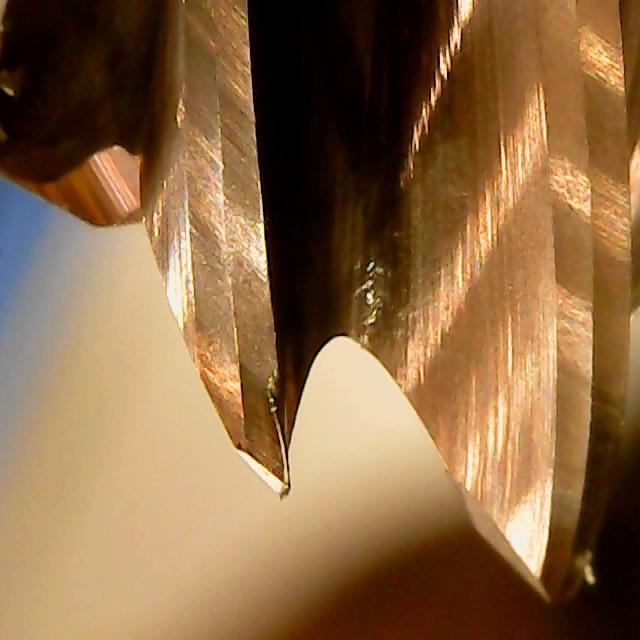Tool-wear-class-1: (179, 201, 300, 502)
